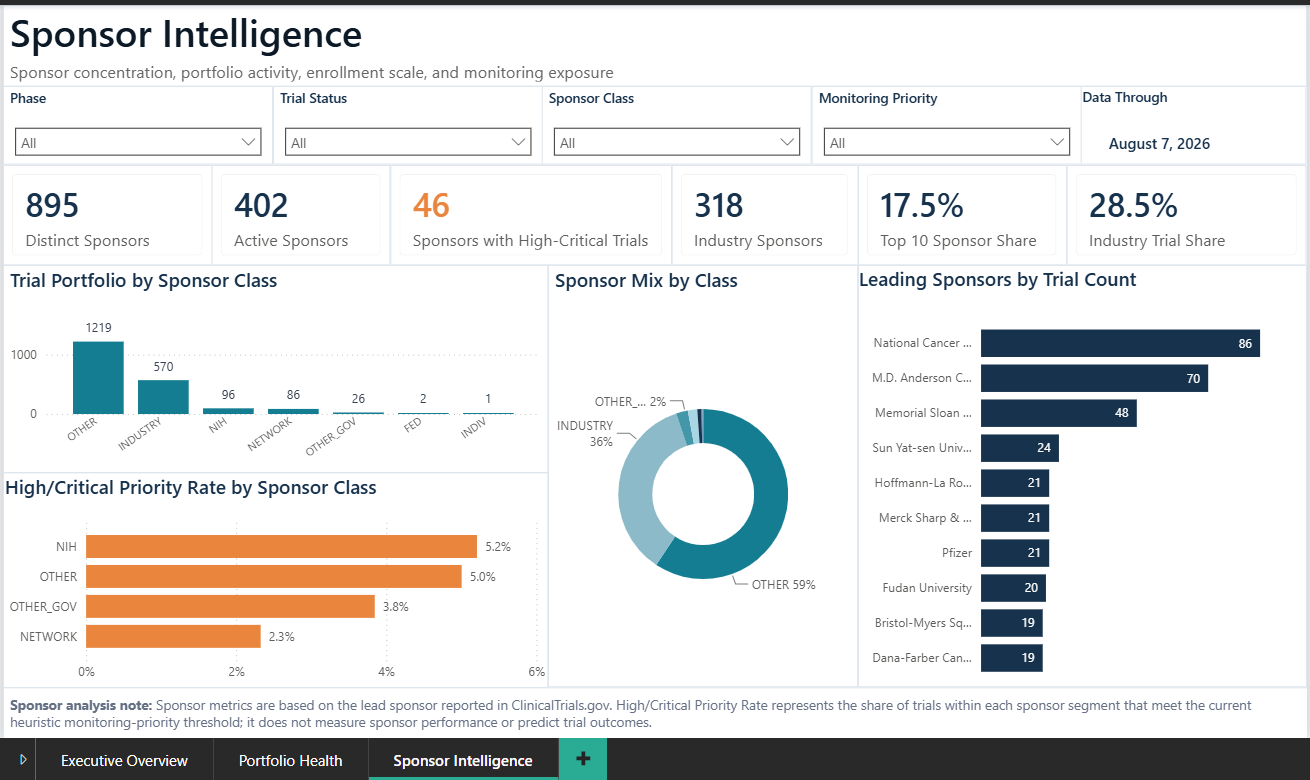

Layout of this report page (visuals, bound fields, positions):
{"tool":"powerbi","page":{"name":"Sponsor Intelligence","canvas":[1280,720],"ordinal":2},"visuals":[{"type":"cardVisual","fields":{"Data":["_Measures.Distinct Sponsors"]},"box":[0,156.6,205.2,98.2],"z":0},{"type":"cardVisual","fields":{"Data":["_Measures.Active Sponsors"]},"box":[204.9,157.1,175.5,98.2],"z":1000},{"type":"cardVisual","fields":{"Data":["_Measures.Sponsors with High-Critical Trials"]},"box":[380.4,157.1,276.1,98.2],"z":2000},{"type":"cardVisual","fields":{"Data":["_Measures.Industry Sponsors"]},"box":[656.4,157.1,182.8,98.2],"z":3000},{"type":"cardVisual","fields":{"Data":["_Measures.Top 10 Sponsor Share"]},"box":[839.3,157.1,204.9,98.2],"z":4000},{"type":"cardVisual","fields":{"Data":["_Measures.Industry Trial Share"]},"box":[1044.2,157.1,235.6,98.2],"z":5000},{"type":"clusteredColumnChart","title":"Trial Portfolio by Sponsor Class","fields":{"Category":["Trials.sponsor_class"],"Y":["_Measures.Total Trials"]},"box":[0,255.2,535,203.7],"z":6000},{"type":"clusteredBarChart","title":"Leading Sponsors by Trial Count","fields":{"Y":["_Measures.Total Trials"],"Category":["Trials.sponsor"]},"box":[839.3,255.2,440.5,414.7],"z":7000},{"type":"donutChart","title":"Sponsor Mix by Class","fields":{"Category":["Trials.sponsor_class"],"Y":["_Measures.Distinct Sponsors"]},"box":[535,255.2,304.3,414.7],"z":8000},{"type":"clusteredBarChart","title":"High/Critical Priority Rate by Sponsor Class","fields":{"Category":["Trials.sponsor_class"],"Y":["_Measures.High Priority Rate"]},"box":[0,458.9,535,211],"z":9000},{"type":"slicer","title":"Phase","fields":{"Values":["Trials.phase_clean"]},"box":[0,79.8,265,76.8],"z":10000},{"type":"slicer","title":"Trial Status","fields":{"Values":["Trials.status"]},"box":[264.6,79.8,265,76.8],"z":11000},{"type":"slicer","title":"Sponsor Class","fields":{"Values":["Trials.sponsor_class"]},"box":[529.1,79.8,265,76.8],"z":12000},{"type":"cardVisual","title":"Data Through","fields":{"Data":["_Measures.Latest Registry Update"]},"box":[1058.2,79.8,221.8,76.8],"z":13000},{"type":"textbox","title":"Sponsor Intelligence","box":[0,0,1280,79.8],"z":14000},{"type":"textbox","box":[0,669.9,1281,50.3],"z":15000},{"type":"slicer","title":"Monitoring Priority","fields":{"Values":["Trials.risk_category"]},"box":[793.7,79.8,265,76.8],"z":16000}]}

Visuals, with their boxes on the page's 1280x720 design canvas (x1, y1, x2, y2). These are canvas units, not pixel positions in the 1310x780 screenshot, which may show the page scaled, cropped or inside an application window:
cardVisual - _Measures.Distinct Sponsors: [x1=0, y1=157, x2=205, y2=255]
cardVisual - _Measures.Active Sponsors: [x1=205, y1=157, x2=380, y2=255]
cardVisual - _Measures.Sponsors with High-Critical Trials: [x1=380, y1=157, x2=656, y2=255]
cardVisual - _Measures.Industry Sponsors: [x1=656, y1=157, x2=839, y2=255]
cardVisual - _Measures.Top 10 Sponsor Share: [x1=839, y1=157, x2=1044, y2=255]
cardVisual - _Measures.Industry Trial Share: [x1=1044, y1=157, x2=1280, y2=255]
"Trial Portfolio by Sponsor Class" clusteredColumnChart: [x1=0, y1=255, x2=535, y2=459]
"Leading Sponsors by Trial Count" clusteredBarChart: [x1=839, y1=255, x2=1280, y2=670]
"Sponsor Mix by Class" donutChart: [x1=535, y1=255, x2=839, y2=670]
"High/Critical Priority Rate by Sponsor Class" clusteredBarChart: [x1=0, y1=459, x2=535, y2=670]
"Phase" slicer: [x1=0, y1=80, x2=265, y2=157]
"Trial Status" slicer: [x1=265, y1=80, x2=530, y2=157]
"Sponsor Class" slicer: [x1=529, y1=80, x2=794, y2=157]
"Data Through" cardVisual: [x1=1058, y1=80, x2=1280, y2=157]
"Sponsor Intelligence" textbox: [x1=0, y1=0, x2=1280, y2=80]
textbox: [x1=0, y1=670, x2=1281, y2=720]
"Monitoring Priority" slicer: [x1=794, y1=80, x2=1059, y2=157]
